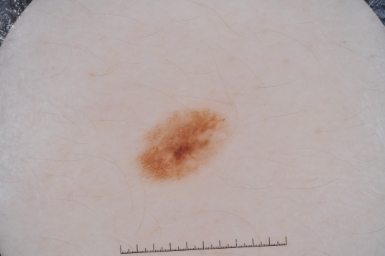melanoma: (137, 109, 230, 181)
